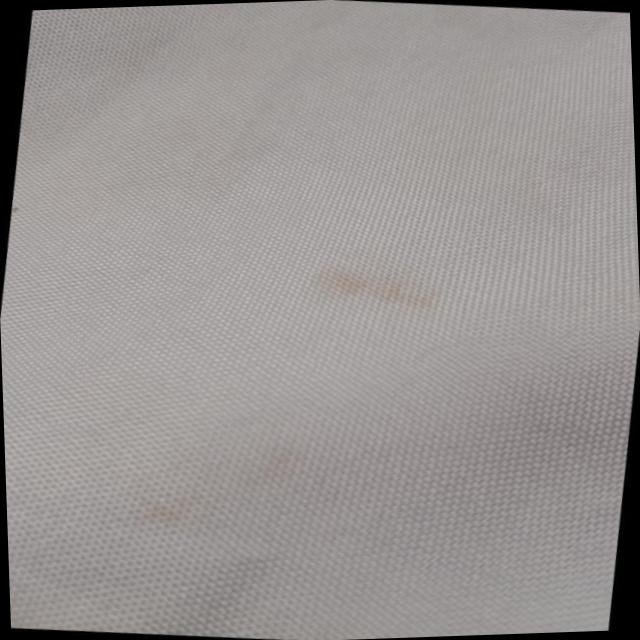stain: (134, 432, 326, 540), (308, 241, 446, 323)
